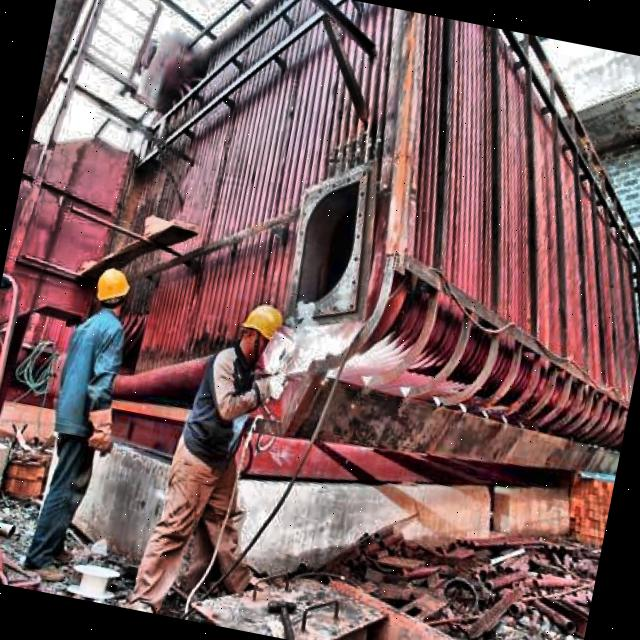helmet: (232, 298, 288, 372), (89, 262, 137, 320)
